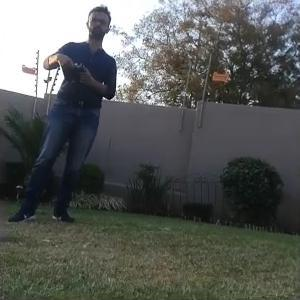follow: (2, 0, 121, 226)
